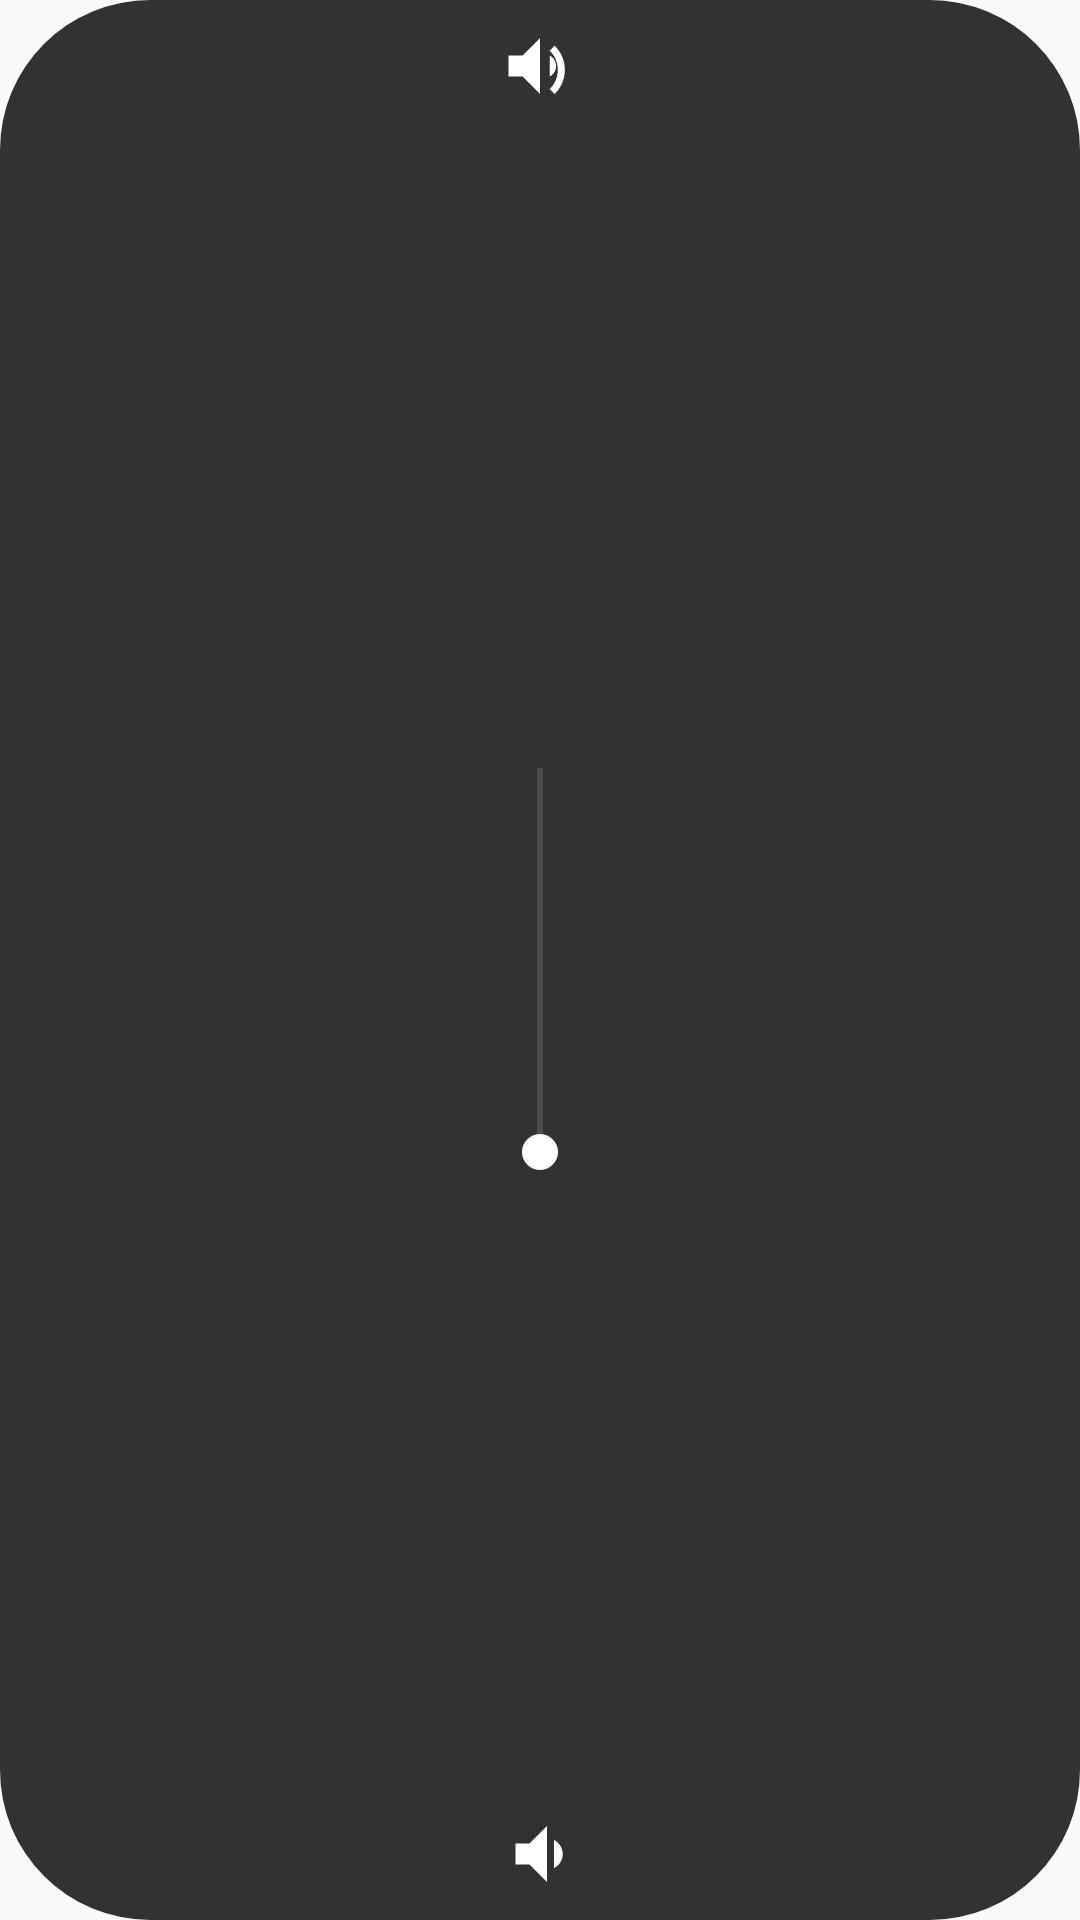

Icons on this 1080*1920 Android screen, each with the point to tap as (x,y):
Volume Down: (539,1854)
Volume Up: (536,66)
